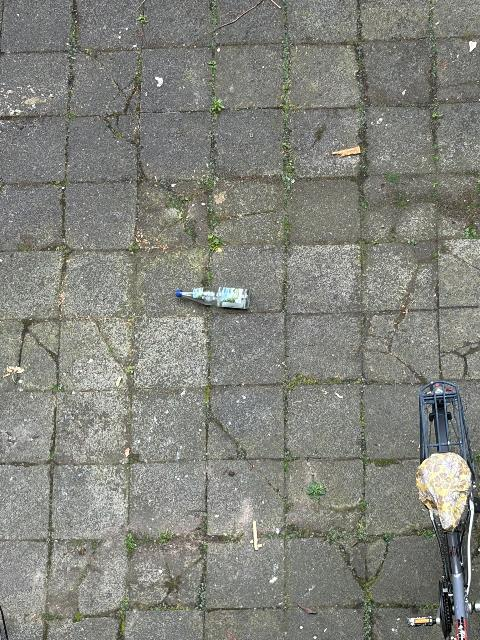glass_bottle: (174, 285, 253, 312)
